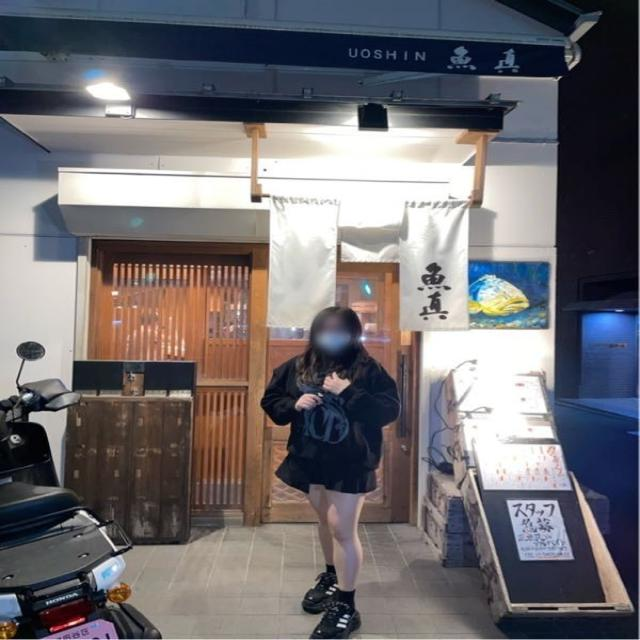mtm: (258, 350, 398, 477)
skirt: (275, 452, 376, 498)
